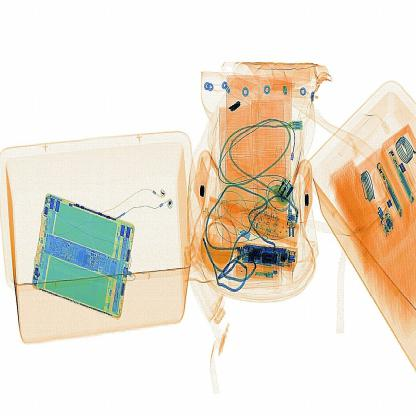wrench: (227, 98, 244, 120)
